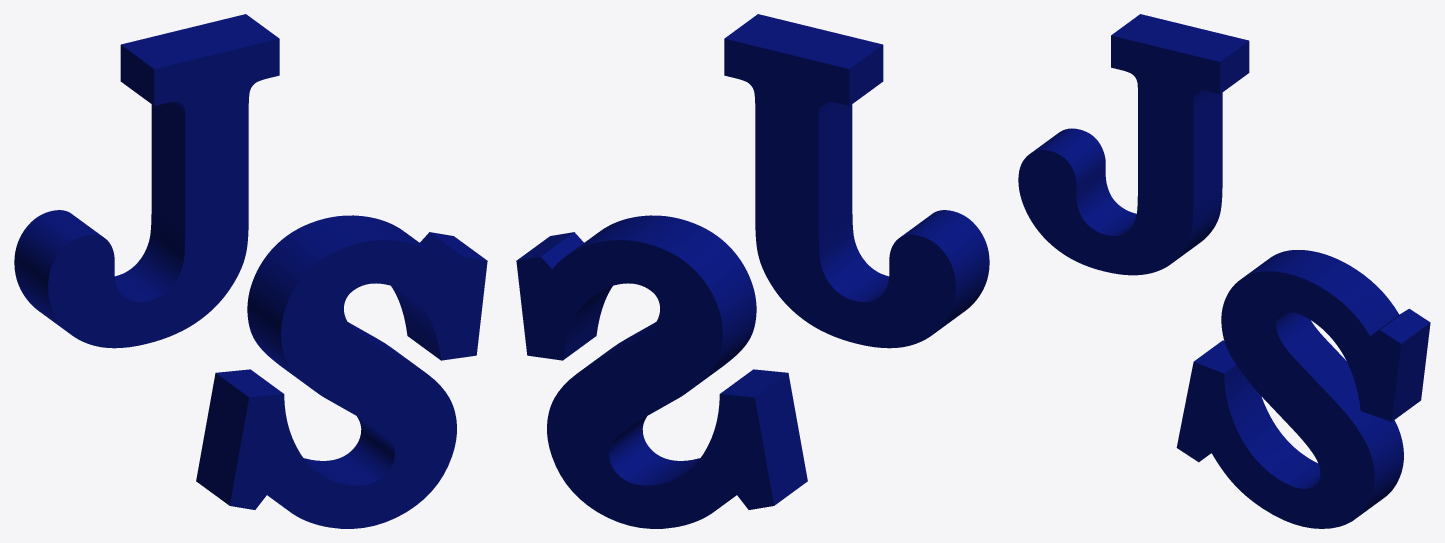
Rendered from Letters.FBX.
The picture shows the model from 3 angles, left to right: view 1: azimuth 30°, elevation 25°; view 2: azimuth 150°, elevation 25°; view 3: azimuth 330°, elevation 25°; orthographic projection. The views are drawn at different scales.
Visible parts, largest first — view 1: letter 1, letter 2; view 2: letter 1, letter 2; view 3: letter 1, letter 2.
Part boxes in pixels (box(x1,y1,x2,y2)): letter 1: box(196, 215, 487, 528); letter 2: box(14, 14, 279, 348); letter 1: box(516, 215, 807, 528); letter 2: box(724, 14, 989, 348); letter 1: box(1176, 250, 1430, 528); letter 2: box(1018, 14, 1249, 275).
Bounding box in the file's own units: 610 × 676 × 80.89.
